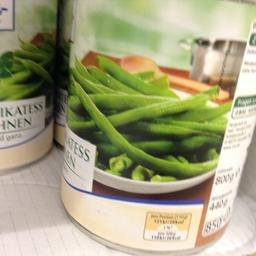beans: (62, 0, 255, 254)
